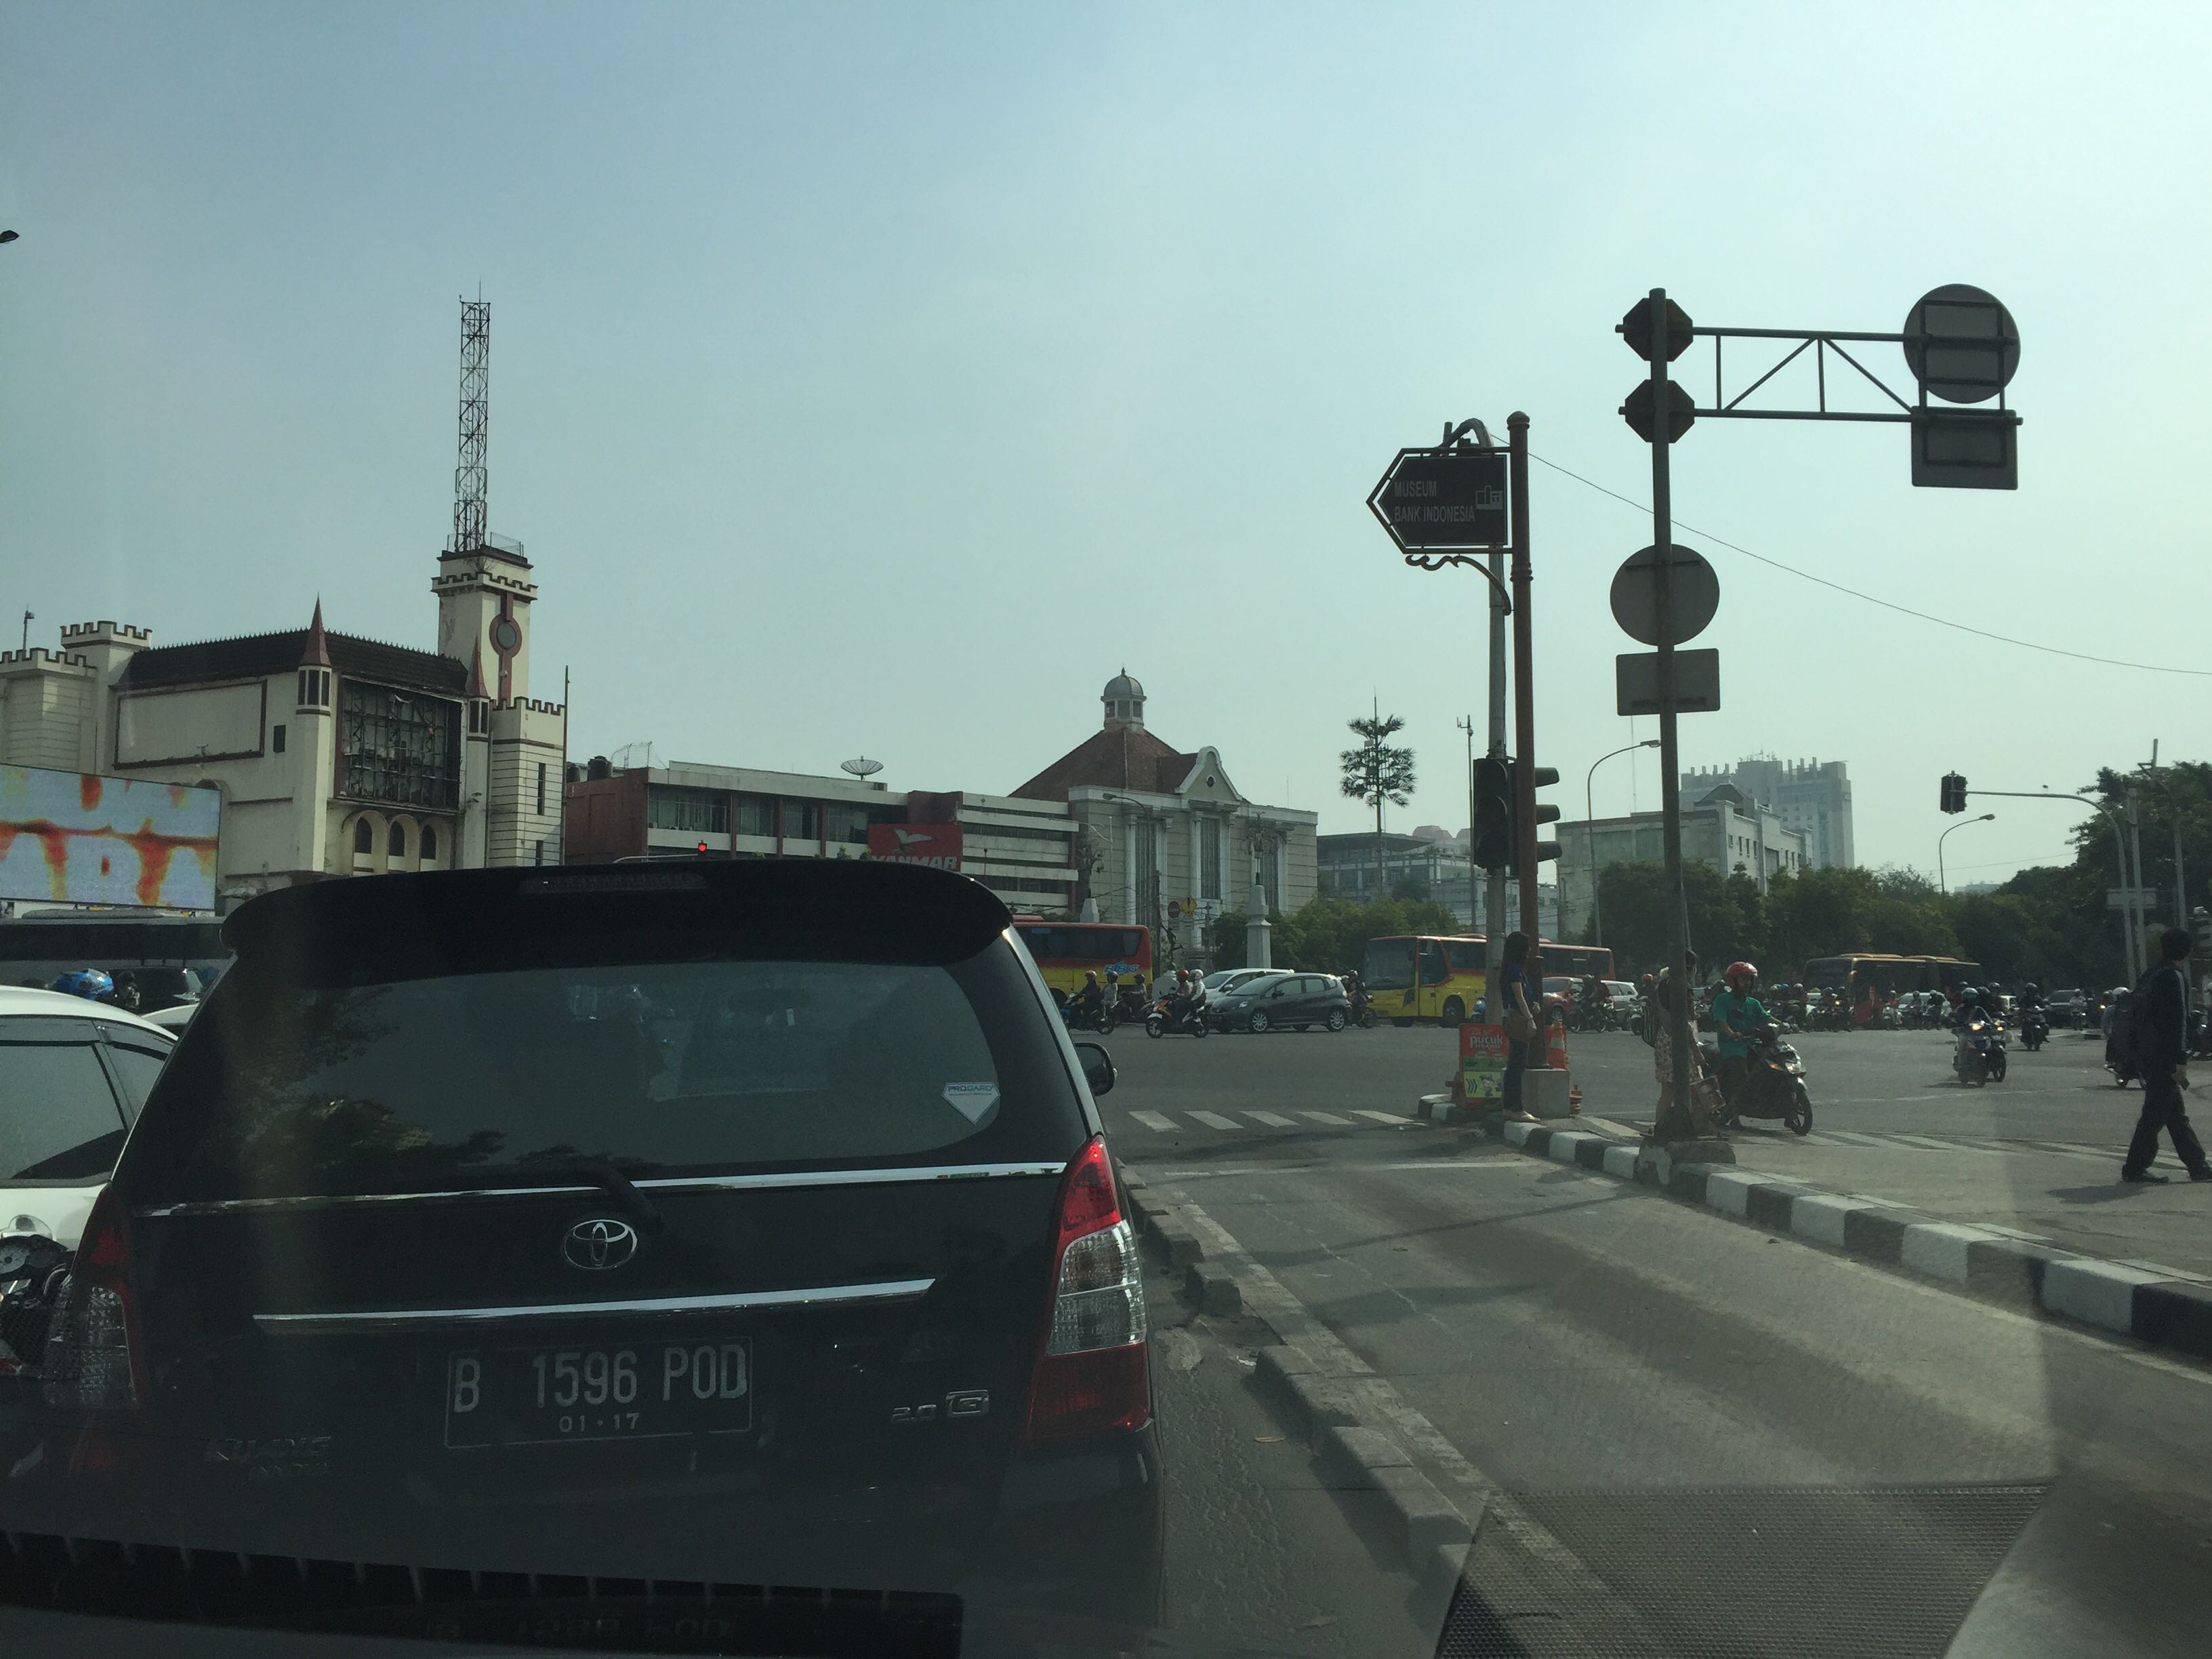plate: (440, 1333, 756, 1443)
